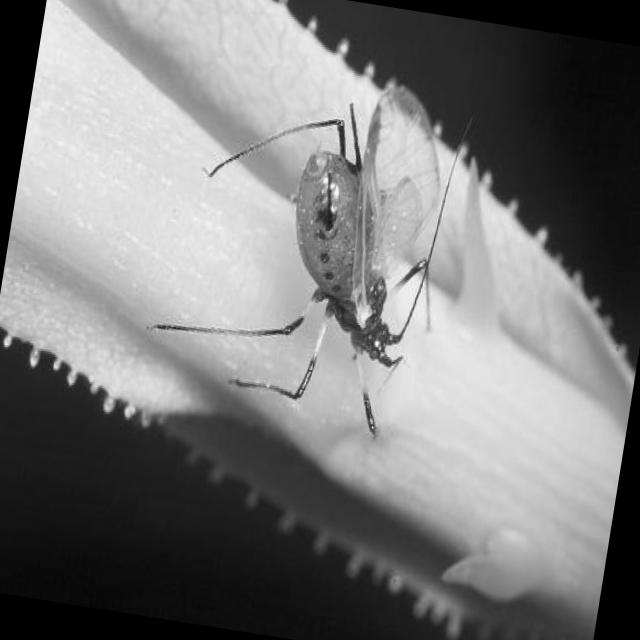Aphids: (153, 54, 492, 450)
